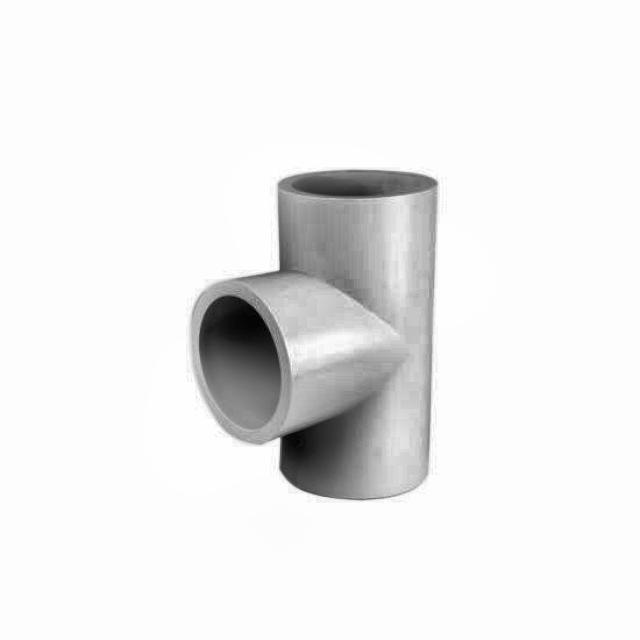EQUALTEE: (189, 168, 442, 504)
